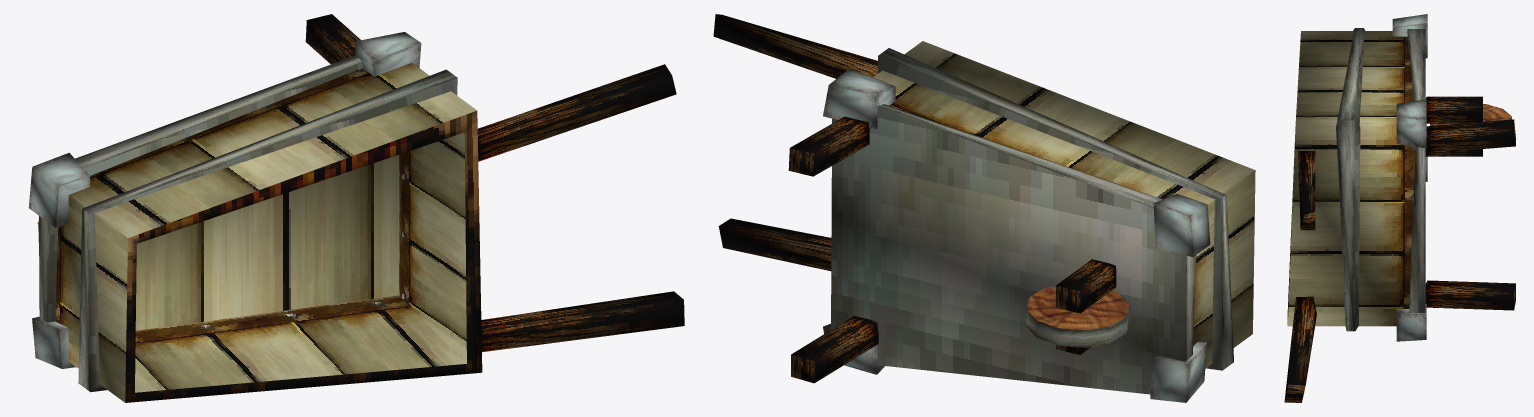
The model's file is INST_SWORDLIGHT_WHLBRRW.fbx.
3 renders of one model, left to right at view 1: azimuth 30°, elevation 25°; view 2: azimuth 150°, elevation 25°; view 3: azimuth 270°, elevation 25°, orthographic. The views are drawn at different scales.
Visible parts, largest first — view 1: INST_SWORDLIGHT_WHLBRRW; view 2: INST_SWORDLIGHT_WHLBRRW; view 3: INST_SWORDLIGHT_WHLBRRW.
Part boxes in pixels (bbox=[...]): INST_SWORDLIGHT_WHLBRRW: bbox=[28, 14, 684, 402]; INST_SWORDLIGHT_WHLBRRW: bbox=[713, 14, 1255, 402]; INST_SWORDLIGHT_WHLBRRW: bbox=[1284, 14, 1515, 402].
Bounding box in the file's own units: 18830 × 9246 × 8732.
Materials: 5 (5 with a texture image).
